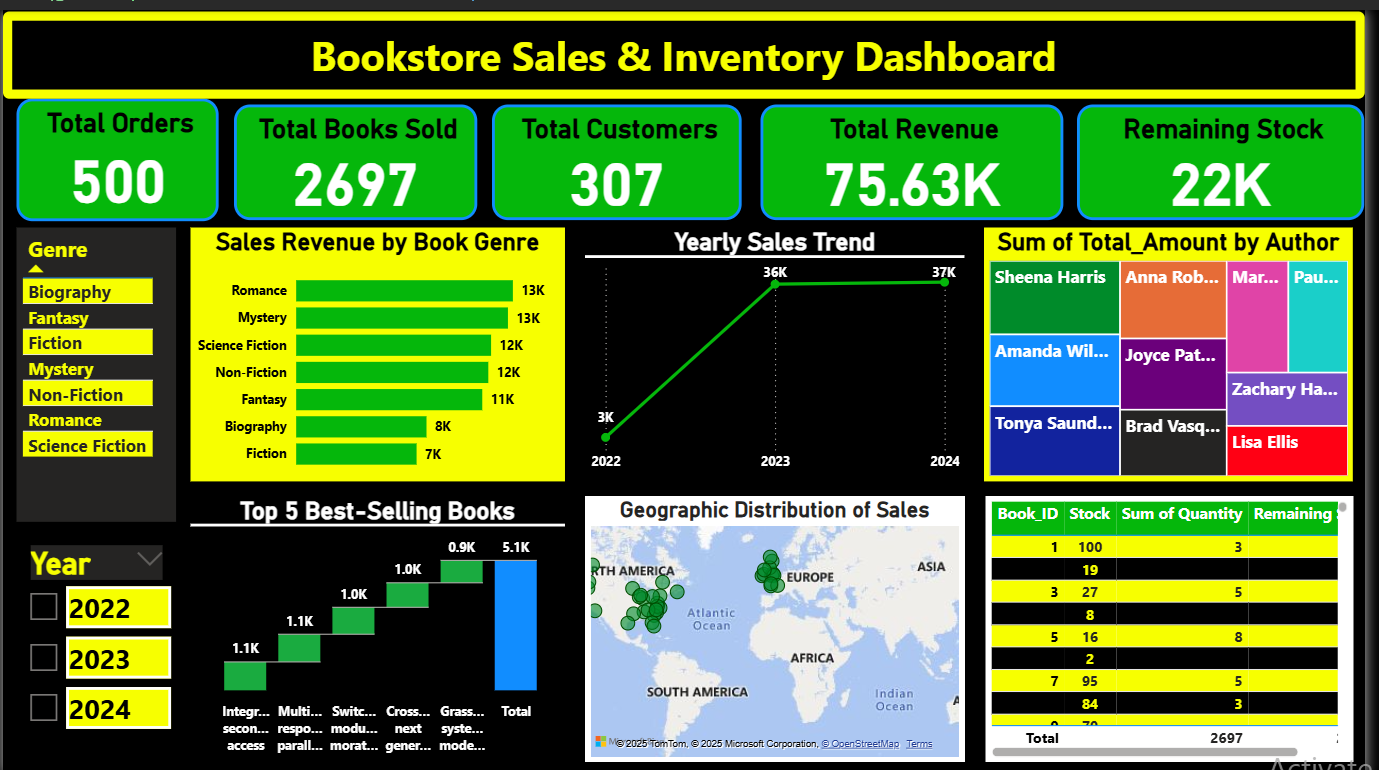

What the dashboard file says about the page in this screenshot:
{"tool":"powerbi","page":{"name":"Page 1","canvas":[1280,720],"ordinal":0},"visuals":[{"type":"card","title":"Total Revenue","fields":{"Values":["Orders.TOTAL SALES"]},"box":[712.6,89.5,284.4,108.6],"z":0},{"type":"card","title":"Total Books Sold","fields":{"Values":["Orders.Quantity"]},"box":[217.3,89.5,228.5,108.6],"z":1000},{"type":"card","title":"Total Customers","fields":{"Values":["Orders.Customer_ID"]},"box":[460.1,89.5,234.9,108.6],"z":2000},{"type":"card","title":"Total Orders","fields":{"Values":["Orders.Order_ID"]},"box":[13.3,83.3,190,115],"z":3000},{"type":"barChart","title":"Sales Revenue by Book Genre","fields":{"Y":["Orders.Total_Amount"],"Category":["Books.Genre"]},"box":[176.7,205,351.7,238.3],"z":4000},{"type":"lineChart","title":"Yearly Sales Trend","fields":{"Category":["Orders.Order_Date.Variation.Date Hierarchy.Year"],"Y":["Orders.Total_Amount"]},"box":[546.7,205,356.7,238.3],"z":5000},{"type":"tableEx","fields":{"Values":["Books.Book_ID","Books.Stock","Orders.Quantity","Books.Remaining Stock"]},"box":[923.3,456.7,345,250],"z":6000},{"type":"card","title":"Remaining Stock","fields":{"Values":["Books.Remaining Stock"]},"box":[1009.7,89.5,270,108.6],"z":7000},{"type":"waterfallChart","title":"Top 5 Best-Selling Books","fields":{"Category":["Books.Title"],"Y":["Orders.Total_Amount"]},"box":[176.7,456.7,351.7,250],"z":8000},{"type":"treemap","fields":{"Values":["Orders.Total_Amount"],"Group":["Books.Author"]},"box":[921.7,205,346.7,238.3],"z":9000},{"type":"map","title":"Geographic Distribution of Sales","fields":{"Category":["Customers.City"]},"box":[546.7,456.7,356.7,250],"z":10000},{"type":"tableEx","fields":{"Values":["Books.Genre"]},"box":[13.3,205,150,276.7],"z":11000},{"type":"slicer","fields":{"Values":["Orders.Order_Date.Variation.Date Hierarchy.Year"]},"box":[13.3,498.3,150,193.3],"z":12000},{"type":"textbox","box":[0,1.7,1280,81.7],"z":14000}]}

Visuals, with their boxes in screenshot pixels (x1, y1, x2, y2):
"Total Revenue" card: 761,101,1060,216
"Total Books Sold" card: 240,101,480,216
"Total Customers" card: 495,101,742,216
"Total Orders" card: 25,95,225,216
"Sales Revenue by Book Genre" barChart: 197,223,567,474
"Yearly Sales Trend" lineChart: 586,223,962,474
tableEx - Books.Book_ID x Books.Stock: 983,488,1346,751
"Remaining Stock" card: 1074,101,1358,216
"Top 5 Best-Selling Books" waterfallChart: 197,488,567,751
treemap - Orders.Total_Amount x Books.Author: 981,223,1346,474
"Geographic Distribution of Sales" map: 586,488,962,751
tableEx - Books.Genre: 25,223,183,514
slicer - Orders.Order_Date.Variation.Date Hierarchy.Year: 25,532,183,735
textbox: 11,9,1358,95
